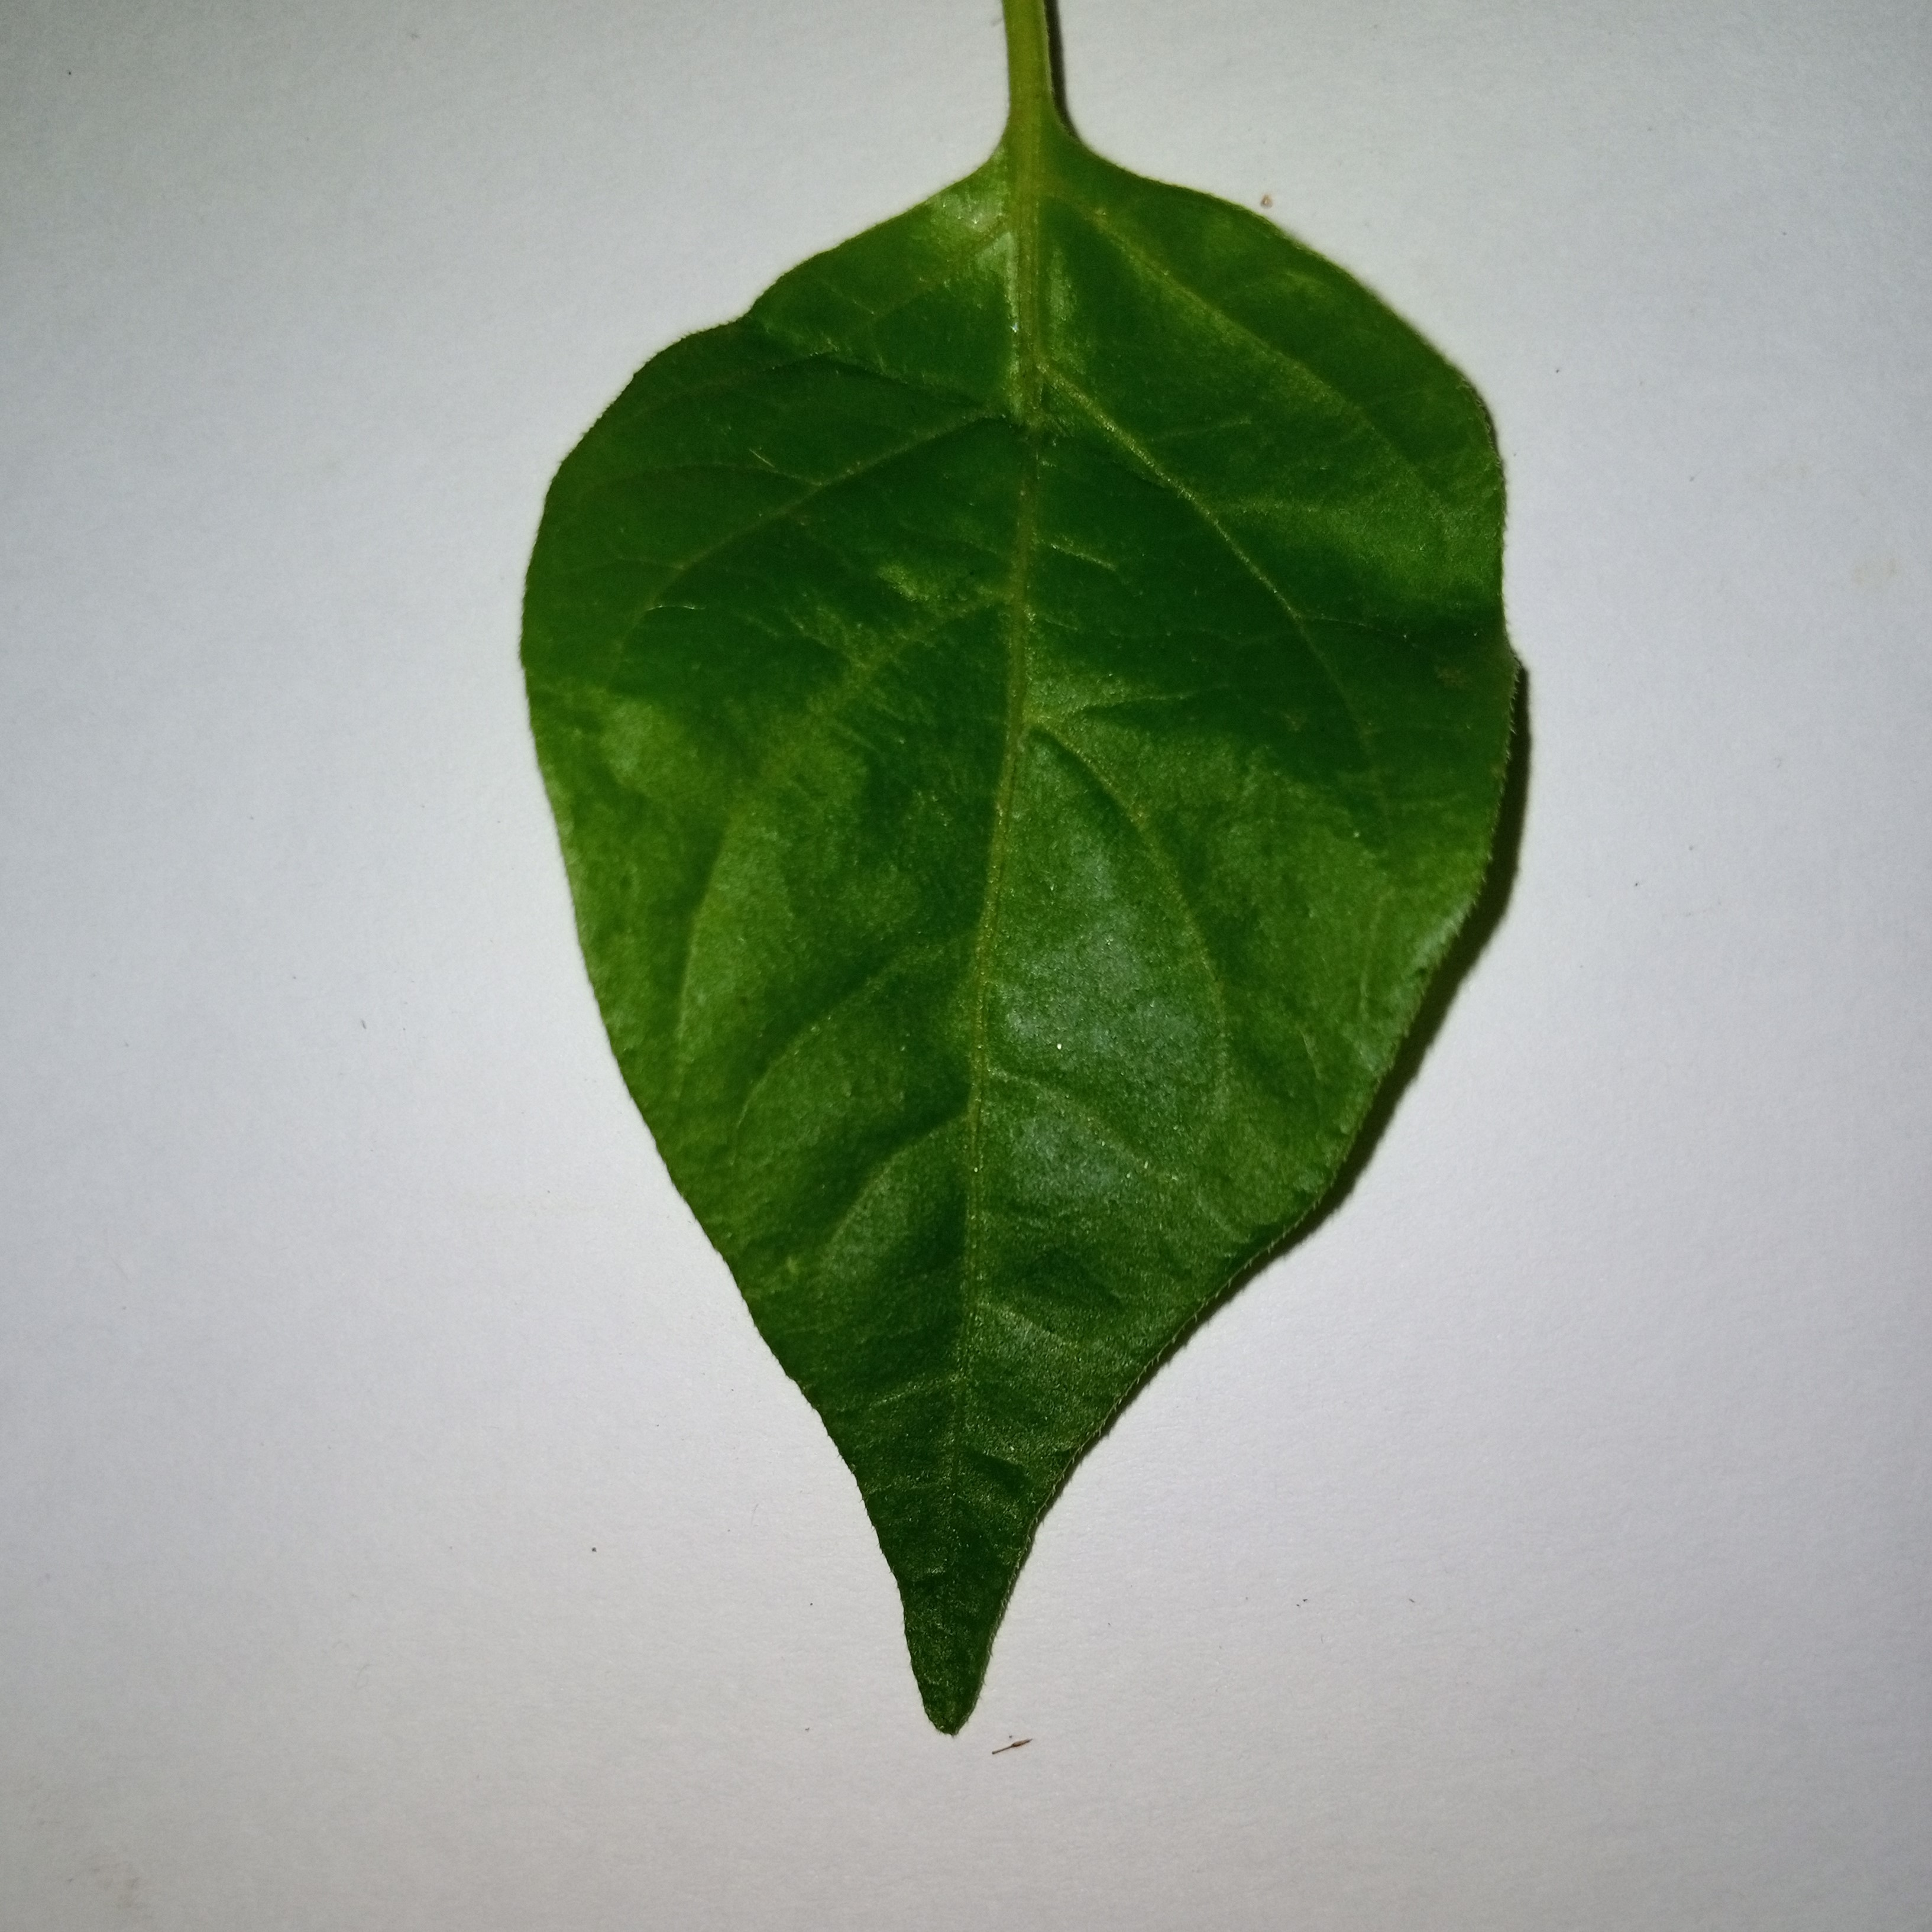Leaf: (336, 87, 1679, 1847)
